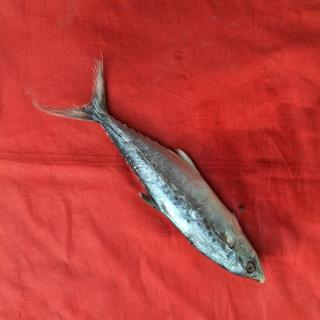Ikan: (19, 38, 279, 290)
